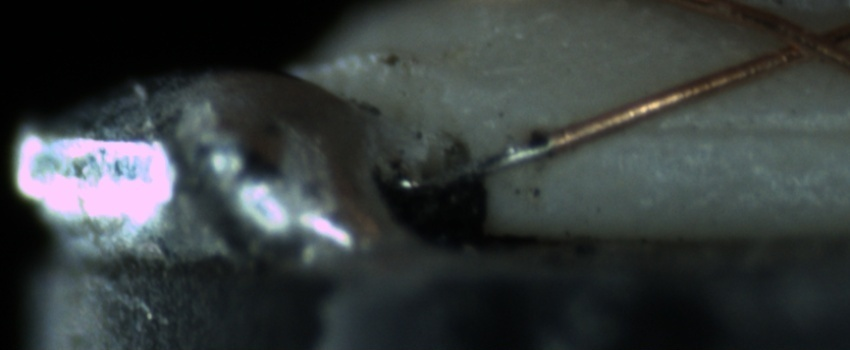CL: (757, 11, 846, 74)
DL: (611, 96, 847, 164)
TS: (395, 137, 553, 191)
TTCW: (402, 118, 601, 195)
